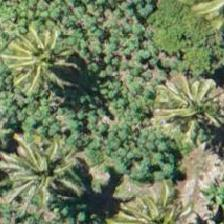coconut_tree: (0, 135, 83, 223), (0, 23, 80, 113), (146, 73, 223, 163), (111, 177, 201, 223)
